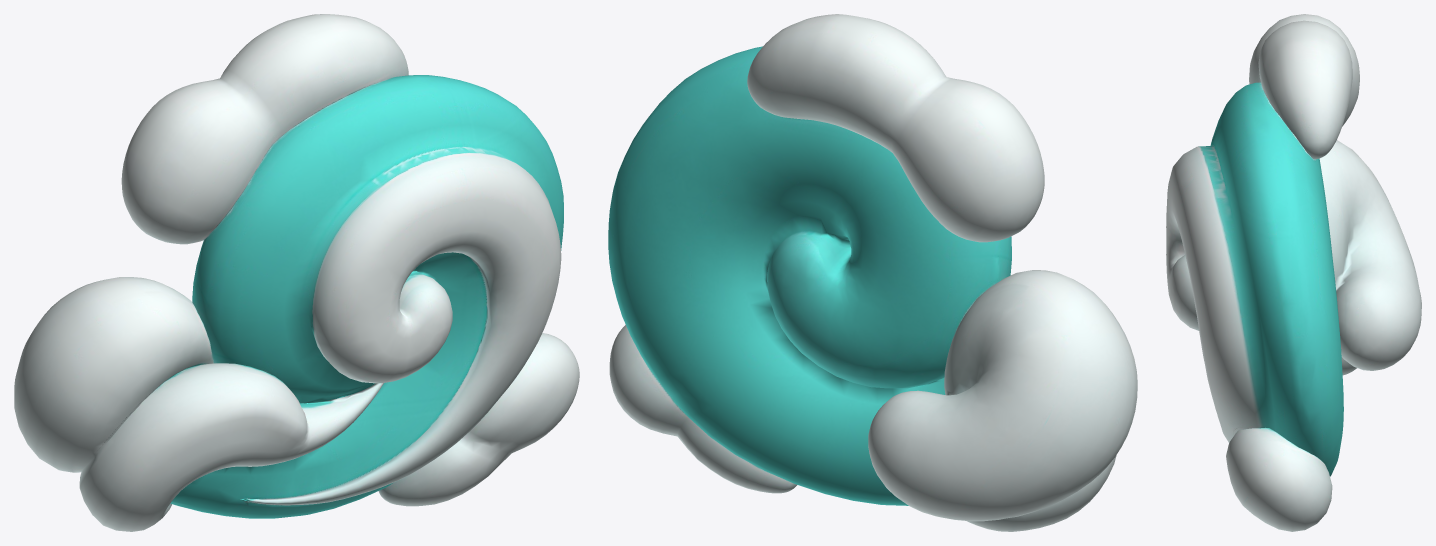
Rendered from breath.glb.
3 renders of one model, left to right at view 1: azimuth 30°, elevation 25°; view 2: azimuth 150°, elevation 25°; view 3: azimuth 270°, elevation 25°, orthographic. The views are drawn at different scales.
Visible parts, largest first — view 1: tripo_node_8e431ec2-0fc9-4409-a7e3-fb4ade146ae8; view 2: tripo_node_8e431ec2-0fc9-4409-a7e3-fb4ade146ae8; view 3: tripo_node_8e431ec2-0fc9-4409-a7e3-fb4ade146ae8.
Boxes of the visible parts, left/top/right/bottom form: tripo_node_8e431ec2-0fc9-4409-a7e3-fb4ade146ae8: left=14, top=14, right=579, bottom=531; tripo_node_8e431ec2-0fc9-4409-a7e3-fb4ade146ae8: left=608, top=14, right=1137, bottom=531; tripo_node_8e431ec2-0fc9-4409-a7e3-fb4ade146ae8: left=1166, top=14, right=1421, bottom=531.
Size of the model in its own units: 0.9995 by 0.9009 by 0.4692.
Materials: 1 (1 with a texture image).
